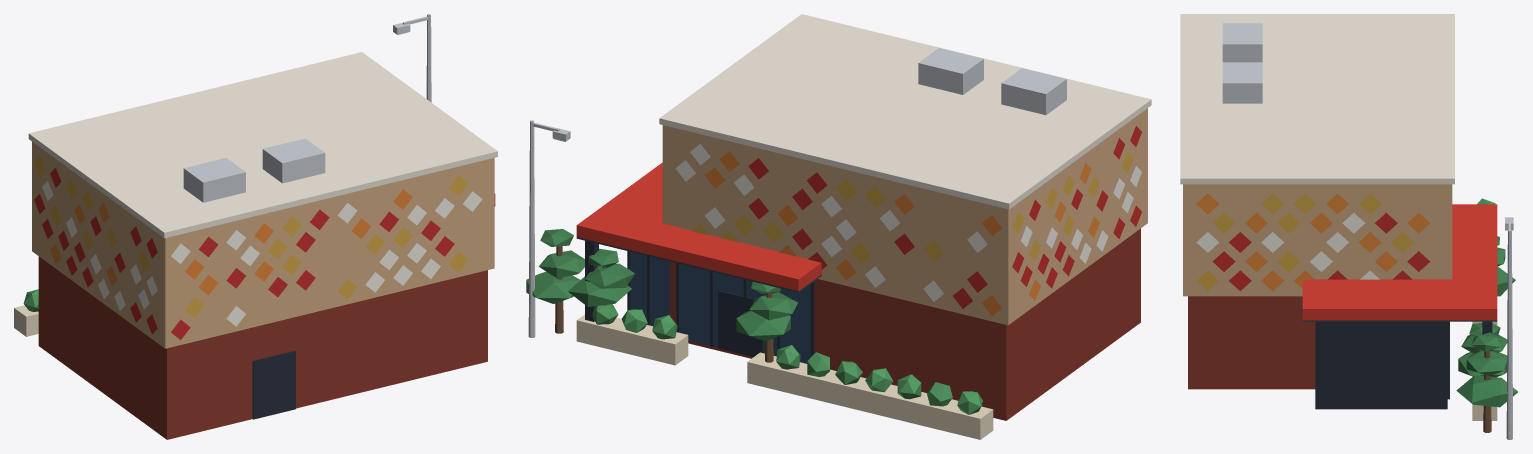
The model's file is kantin-mpm.glb.
3 renders of one model, left to right at view 1: azimuth 30°, elevation 25°; view 2: azimuth 150°, elevation 25°; view 3: azimuth 270°, elevation 25°, orthographic. The views are drawn at different scales.
Parts seen in each view (by area): view 1: cap, skin, maroon, metal, decal-red, decal-white, decal-gold, dark, decal-orange, planter; view 2: cap, skin, maroon, canopy, planter, glass, pine, metal, leaf, decal-red, decal-white, dark (+3 smaller); view 3: cap, skin, dark, maroon, canopy, metal, pine, decal-orange, decal-gold, decal-red, decal-white, soffit (+1 smaller).
Boxes of the visible parts, x1=… form: cap: x1=28, y1=52, x2=497, y2=238; skin: x1=32, y1=142, x2=494, y2=348; maroon: x1=38, y1=256, x2=487, y2=439; metal: x1=183, y1=14, x2=431, y2=202; decal-red: x1=34, y1=167, x2=454, y2=339; decal-white: x1=42, y1=180, x2=482, y2=326; decal-gold: x1=34, y1=156, x2=468, y2=317; dark: x1=252, y1=350, x2=295, y2=419; decal-orange: x1=50, y1=189, x2=412, y2=295; planter: x1=14, y1=305, x2=38, y2=336; cap: x1=659, y1=14, x2=1151, y2=209; skin: x1=662, y1=108, x2=1147, y2=325; maroon: x1=670, y1=228, x2=1140, y2=420; canopy: x1=576, y1=162, x2=821, y2=290; planter: x1=576, y1=314, x2=993, y2=439; glass: x1=629, y1=251, x2=810, y2=363; pine: x1=526, y1=229, x2=797, y2=341; metal: x1=528, y1=48, x2=1066, y2=337; leaf: x1=592, y1=304, x2=982, y2=414; decal-red: x1=748, y1=126, x2=1141, y2=308; decal-white: x1=675, y1=143, x2=1141, y2=301; dark: x1=585, y1=240, x2=814, y2=356; cap: x1=1180, y1=14, x2=1454, y2=184; skin: x1=1183, y1=184, x2=1452, y2=296; dark: x1=1315, y1=321, x2=1492, y2=409; maroon: x1=1188, y1=296, x2=1315, y2=389; canopy: x1=1302, y1=204, x2=1497, y2=320; metal: x1=1222, y1=23, x2=1513, y2=439; pine: x1=1456, y1=236, x2=1517, y2=407; decal-orange: x1=1196, y1=193, x2=1429, y2=291; decal-gold: x1=1196, y1=193, x2=1413, y2=290; decal-red: x1=1212, y1=212, x2=1430, y2=291; decal-white: x1=1196, y1=213, x2=1379, y2=279; soffit: x1=1302, y1=320, x2=1497, y2=321.
Bounding box in the file's own units: 20.64 × 10.35 × 13.55.
